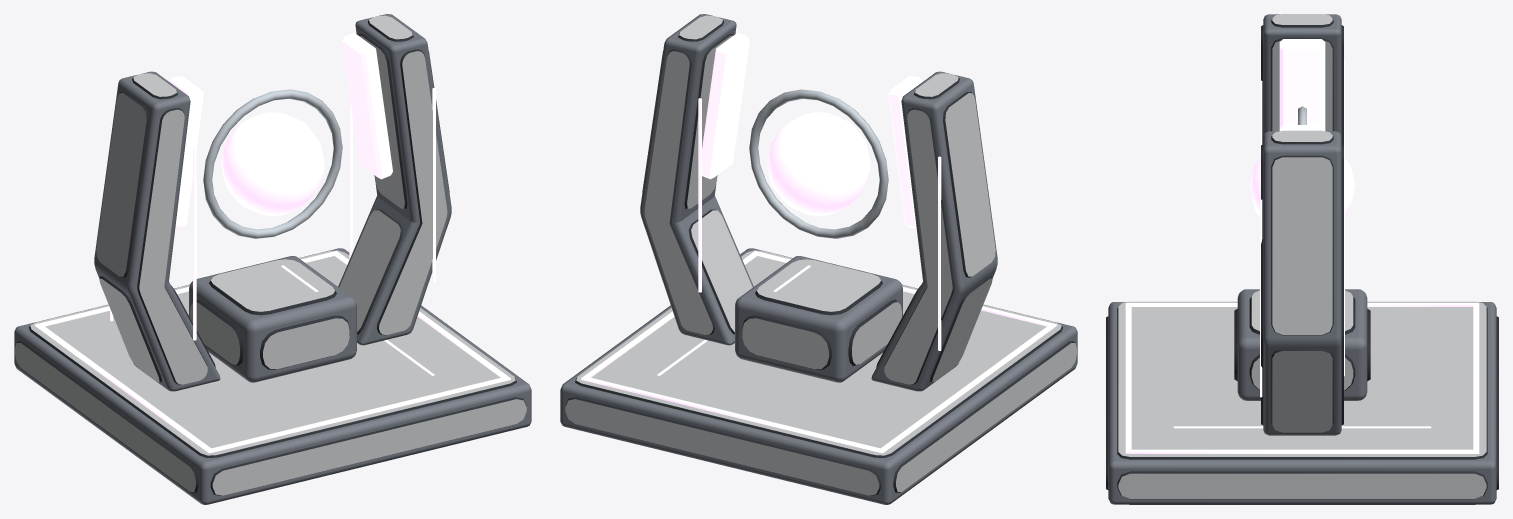
File: R4X_Blink.fbx
The picture shows the model from 3 angles, left to right: view 1: azimuth 30°, elevation 25°; view 2: azimuth 150°, elevation 25°; view 3: azimuth 270°, elevation 25°; orthographic projection.
Parts seen in each view (by area): view 1: R4X_Blink_Body; view 2: R4X_Blink_Body; view 3: R4X_Blink_Body.
Boxes of the visible parts, x1,y1,x2,y2 form: R4X_Blink_Body: [14, 14, 531, 504]; R4X_Blink_Body: [560, 14, 1077, 504]; R4X_Blink_Body: [1106, 14, 1498, 504].
Size of the model in its own units: 0.52 by 0.51 by 0.52.
